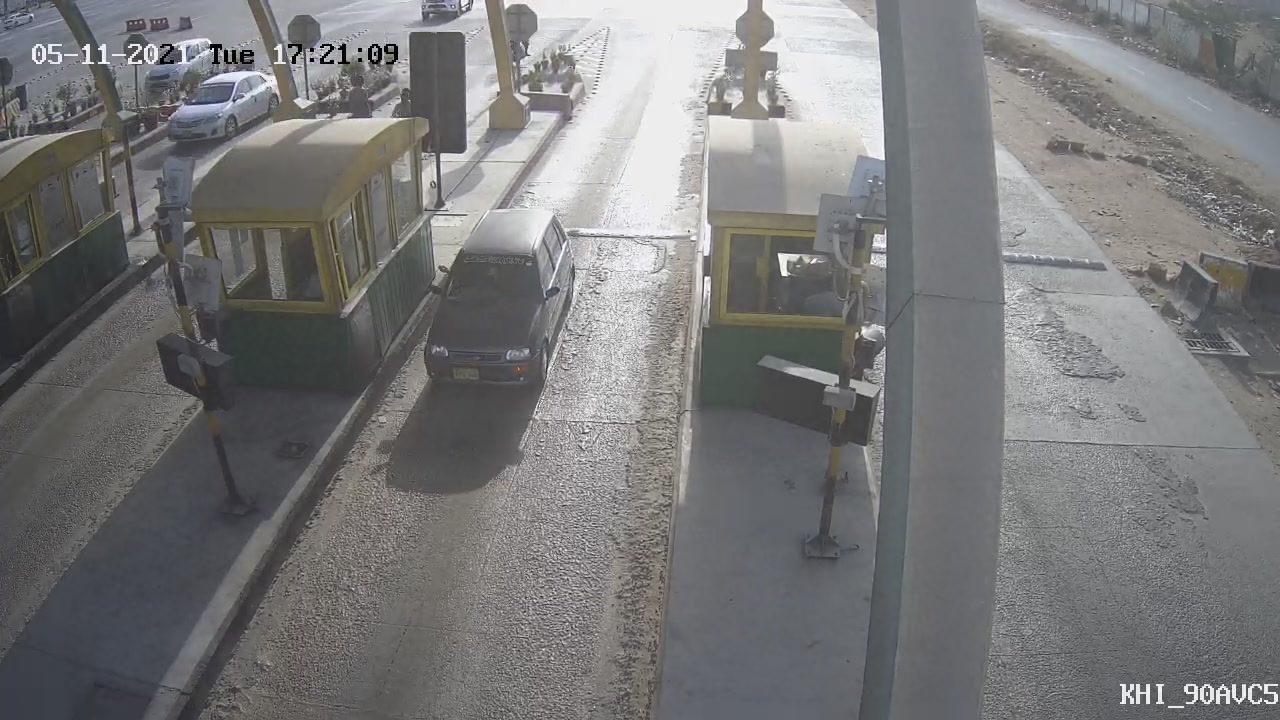F1: (394, 191, 595, 411)
